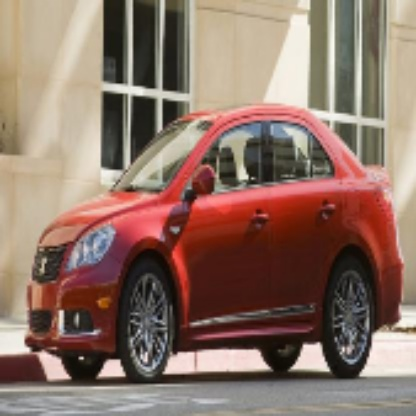Vehicle: (24, 100, 407, 388)
